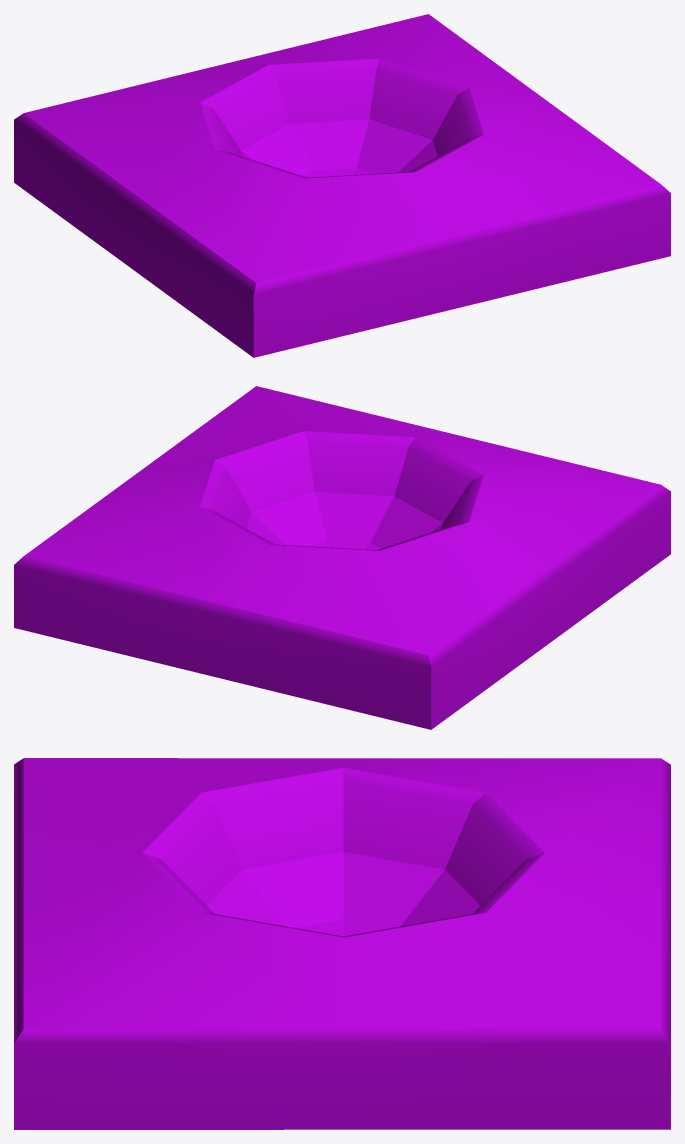
File: Checker_Ball_01.fbx
The picture shows the model from 3 angles, top to bottom: view 1: azimuth 30°, elevation 25°; view 2: azimuth 150°, elevation 25°; view 3: azimuth 270°, elevation 25°; orthographic projection. The views are drawn at different scales.
Parts seen in each view (by area): view 1: Checker_Ball_01; view 2: Checker_Ball_01; view 3: Checker_Ball_01.
Boxes of the visible parts, <box> form: Checker_Ball_01: <box>14,14,670,357</box>; Checker_Ball_01: <box>14,386,670,729</box>; Checker_Ball_01: <box>14,758,670,1129</box>.
Size of the model in its own units: 7.99 by 1.84 by 7.95.
